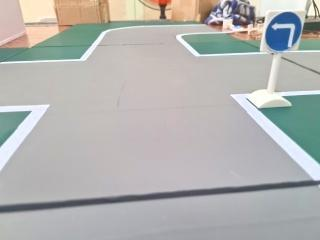left: (264, 10, 304, 53)
